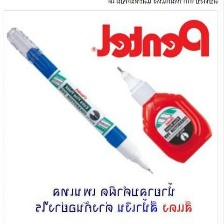correction_fluid: (4, 26, 155, 177), (114, 62, 213, 165)
